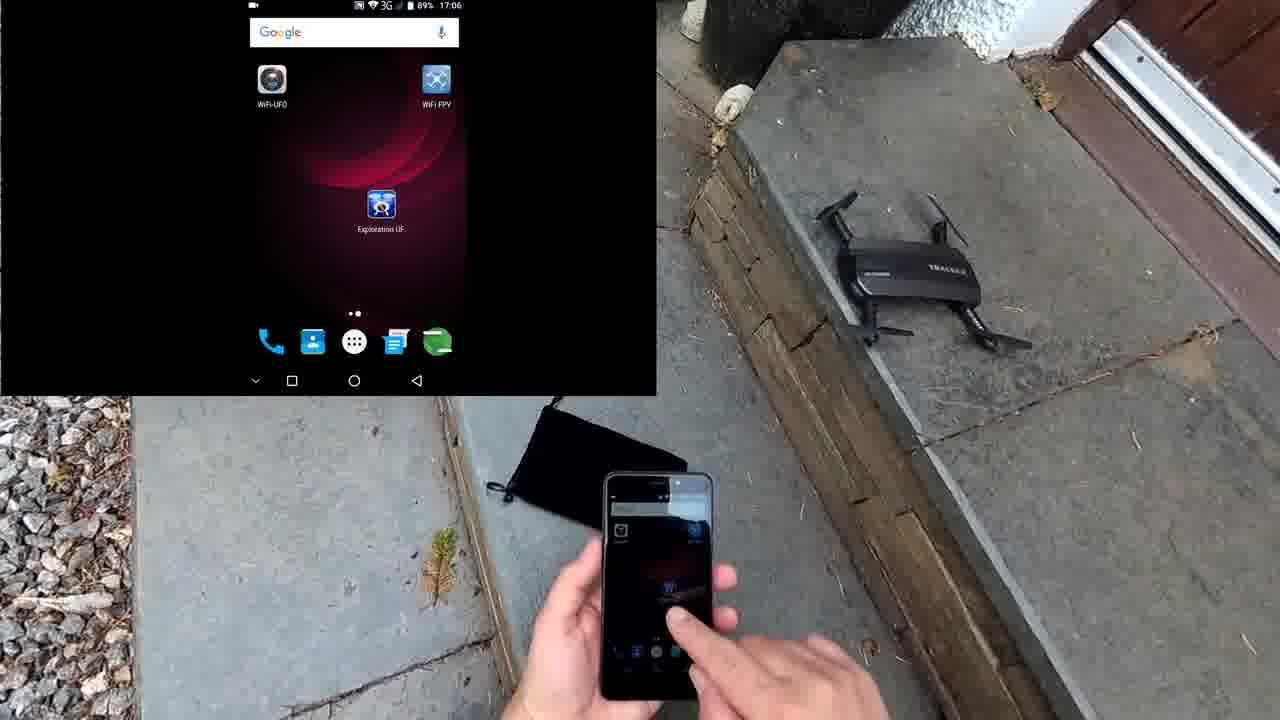drone: (806, 179, 1050, 368)
